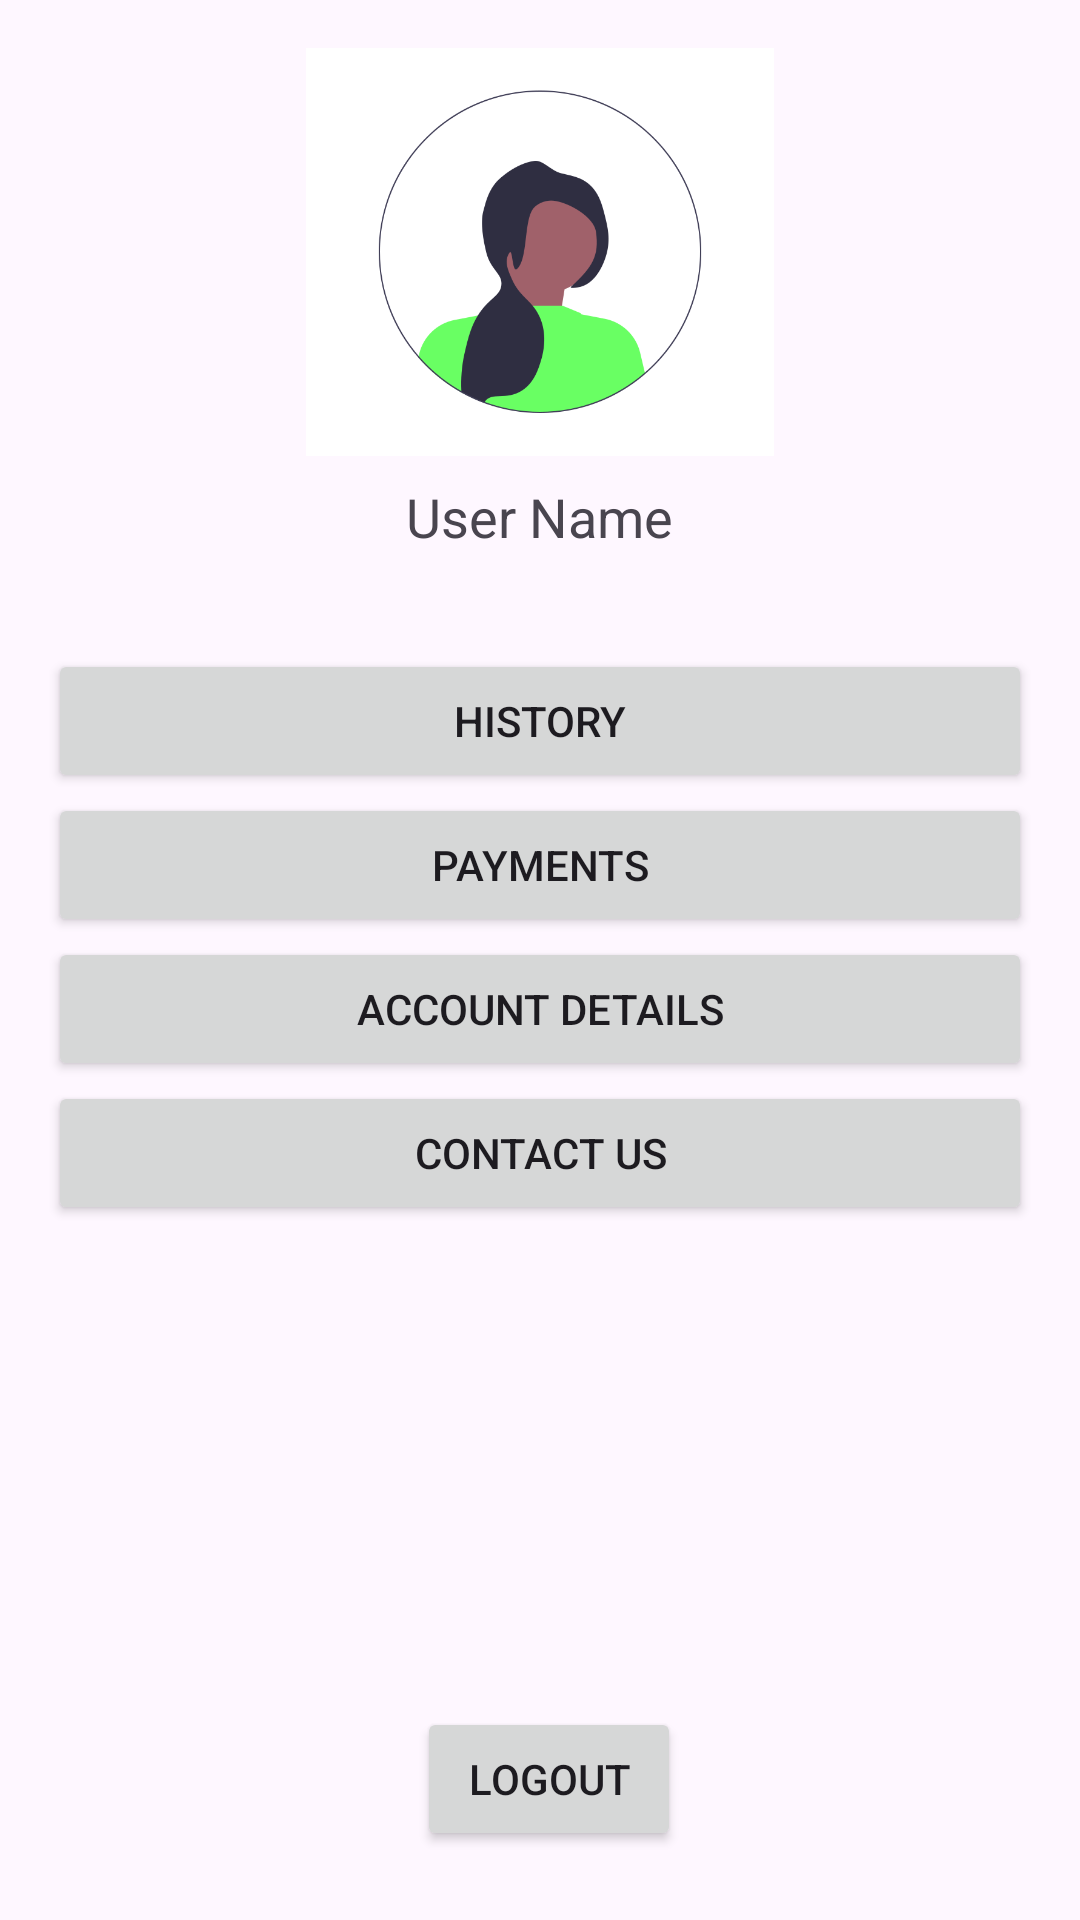

Icons on this 1080 × 1920 Android screen, each with its box as (x1, y1, x2, y2):
profile pic: (379, 90, 701, 413)
